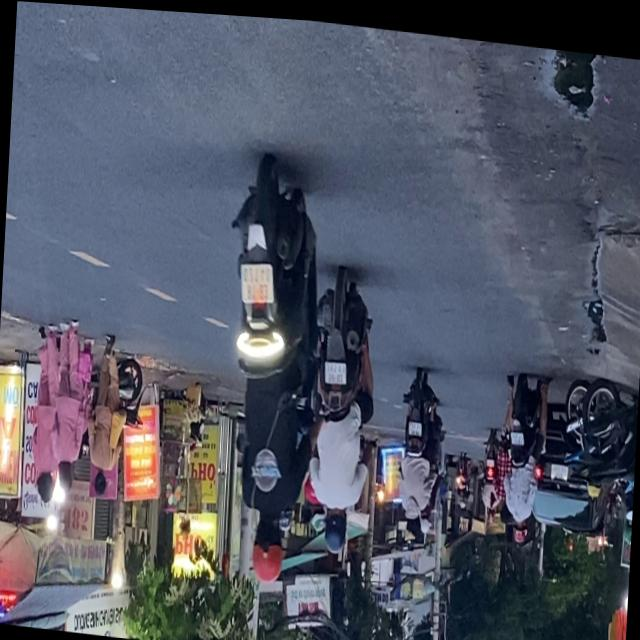helmet: (248, 511, 286, 582), (320, 502, 347, 550), (510, 512, 526, 538)
licenseplate: (212, 146, 330, 592), (302, 261, 382, 554), (496, 363, 550, 541)
nohelmet: (238, 257, 272, 302), (323, 356, 346, 380), (510, 423, 523, 439)
